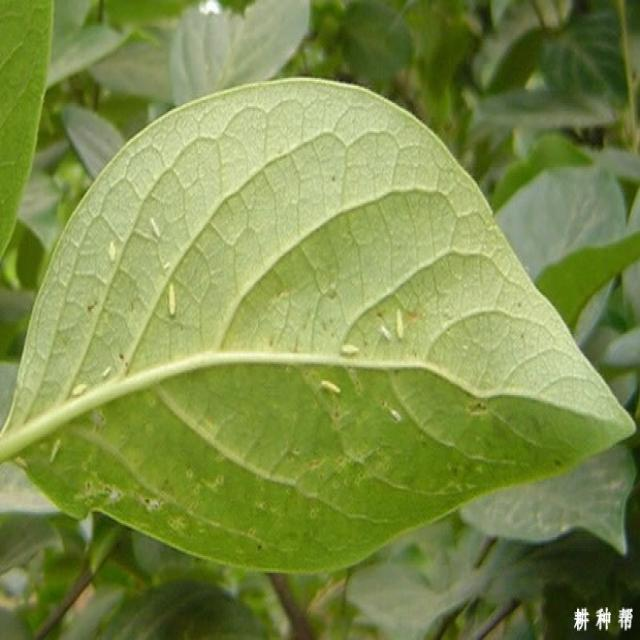Yechan: (390, 305, 410, 343), (163, 276, 177, 322), (316, 374, 345, 396)
